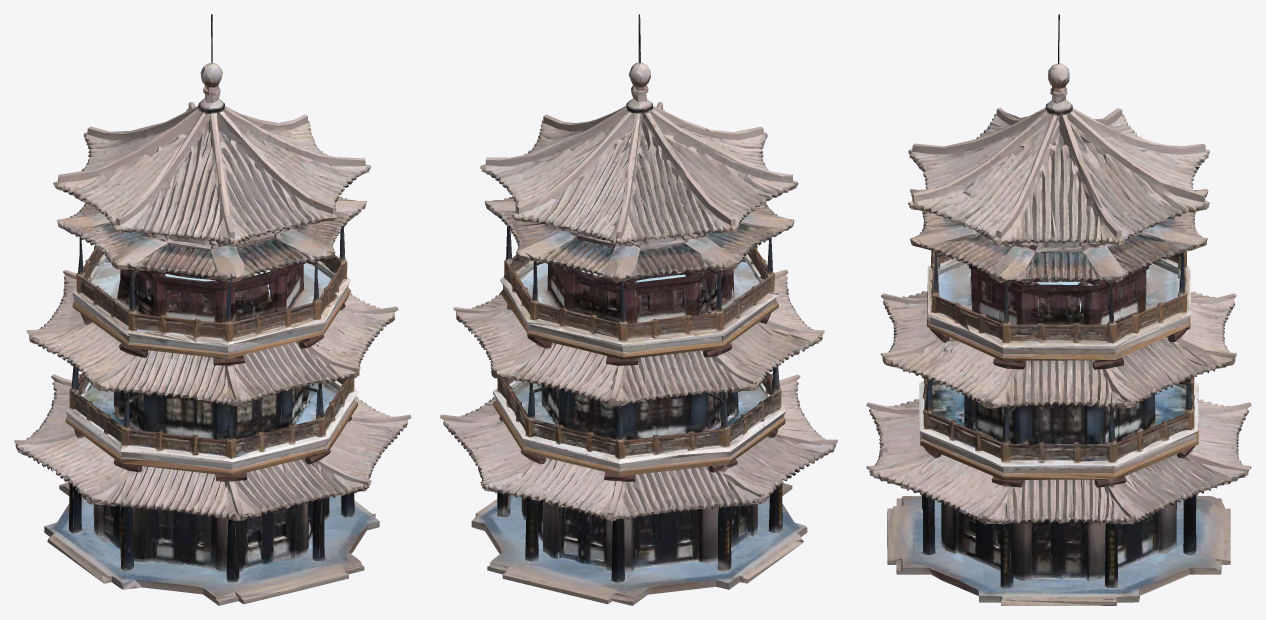
Rendered from lib_pagoda5.glb.
3 views of the same model, side by side, from view 1: azimuth 30°, elevation 25°; view 2: azimuth 150°, elevation 25°; view 3: azimuth 270°, elevation 25° (orthographic).
Visible parts, largest first — view 1: output_unwrapped; view 2: output_unwrapped; view 3: output_unwrapped.
Part boxes in pixels (x1=…): output_unwrapped: x1=14, y1=14, x2=411, y2=605; output_unwrapped: x1=440, y1=14, x2=837, y2=605; output_unwrapped: x1=866, y1=14, x2=1251, y2=605.
Bounding box in the file's own units: 1.32 × 2 × 1.33.
Materials: 1 (1 with a texture image).
